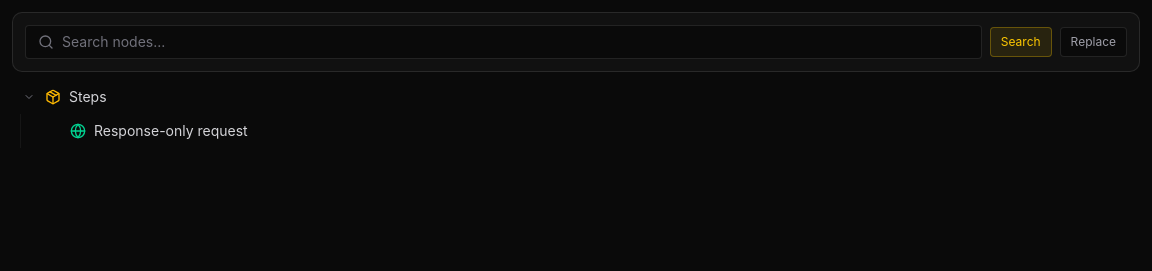
Test: YAMLTreeView replacement › keeps response-only results visible but not replaceable
In the field with placeholder "Search nodes...": (515, 42) [62, 32, 969, 52], type "token"
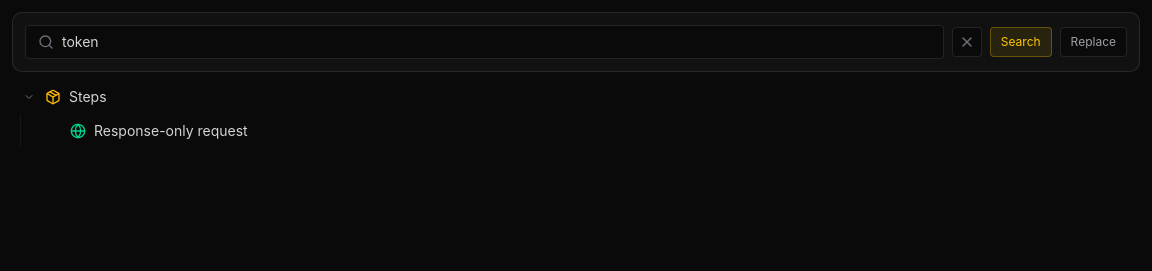
Click the button with aria-label "Search tree": (1021, 42) [990, 27, 1052, 57]
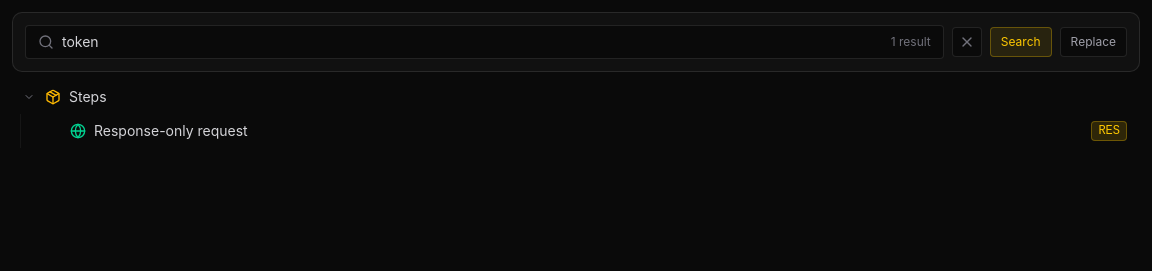
Check: the list item "Response-only request res" is shown, box [70, 121, 1127, 141]
Check: the text "res" is shown, box [1091, 121, 1127, 141]
Click the button "Replace": (1093, 42) [1060, 27, 1127, 57]
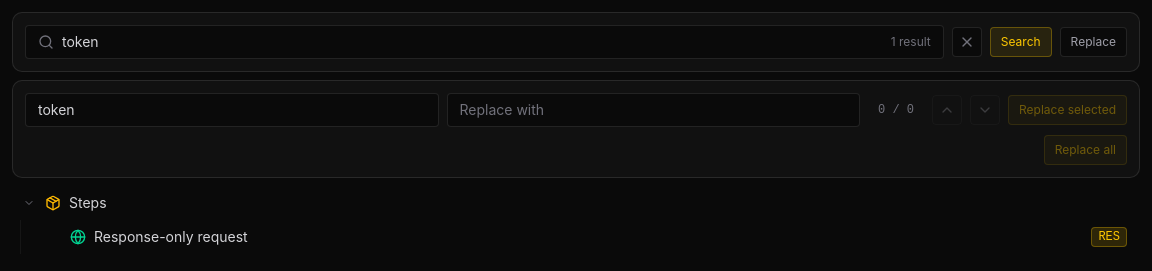
Check: the text named "Replace match position" reads "0 / 0", box [878, 103, 914, 117]
Check: the button "Replace selected" is disabled, box [1008, 95, 1127, 125]
Check: the button "Replace all" is disabled, box [1044, 135, 1127, 165]
